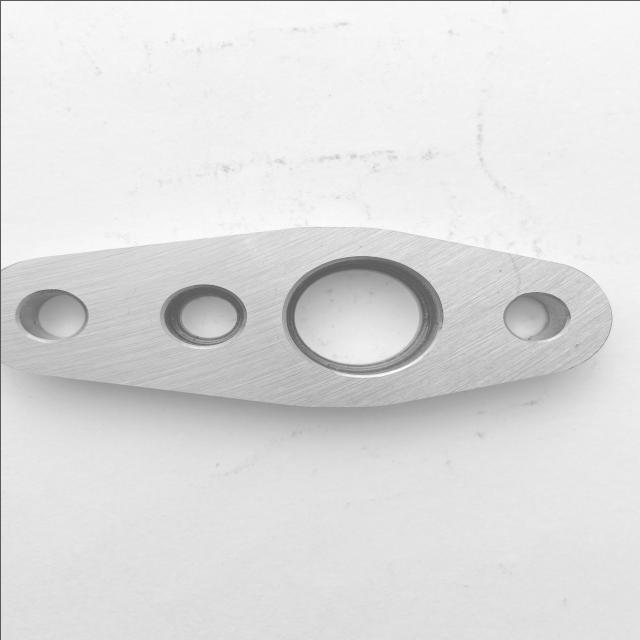chap: (570, 338, 580, 348)
lines: (503, 252, 522, 292), (122, 286, 138, 316), (271, 325, 285, 352)
